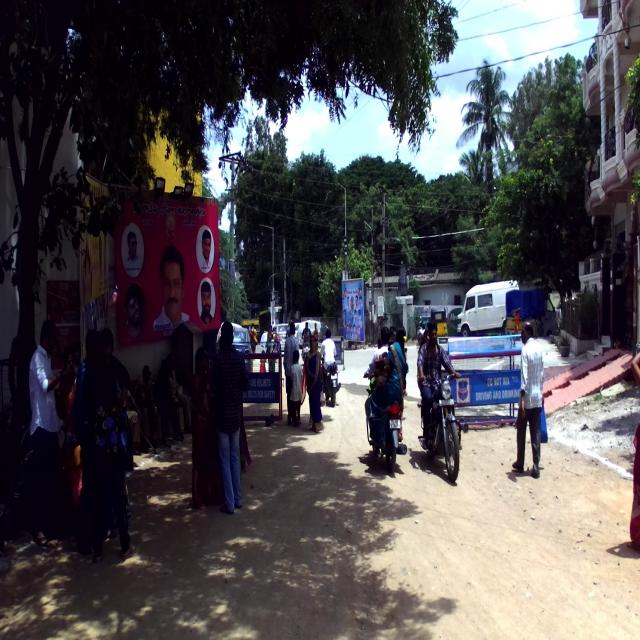motorcycle: (417, 372, 462, 482), (363, 367, 407, 475)
